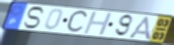0: (42, 8, 64, 31)
9: (113, 14, 134, 38)
A: (126, 16, 152, 42)
C: (65, 9, 90, 35)
H: (82, 11, 115, 36)
S: (22, 6, 45, 30)
